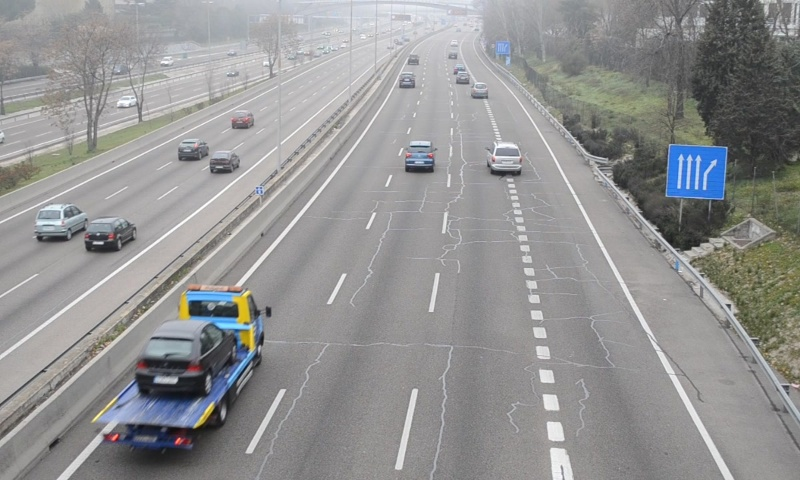car: (487, 140, 521, 172), (404, 140, 435, 170), (470, 81, 489, 99), (398, 72, 414, 87)
small-truck: (88, 283, 264, 447)
